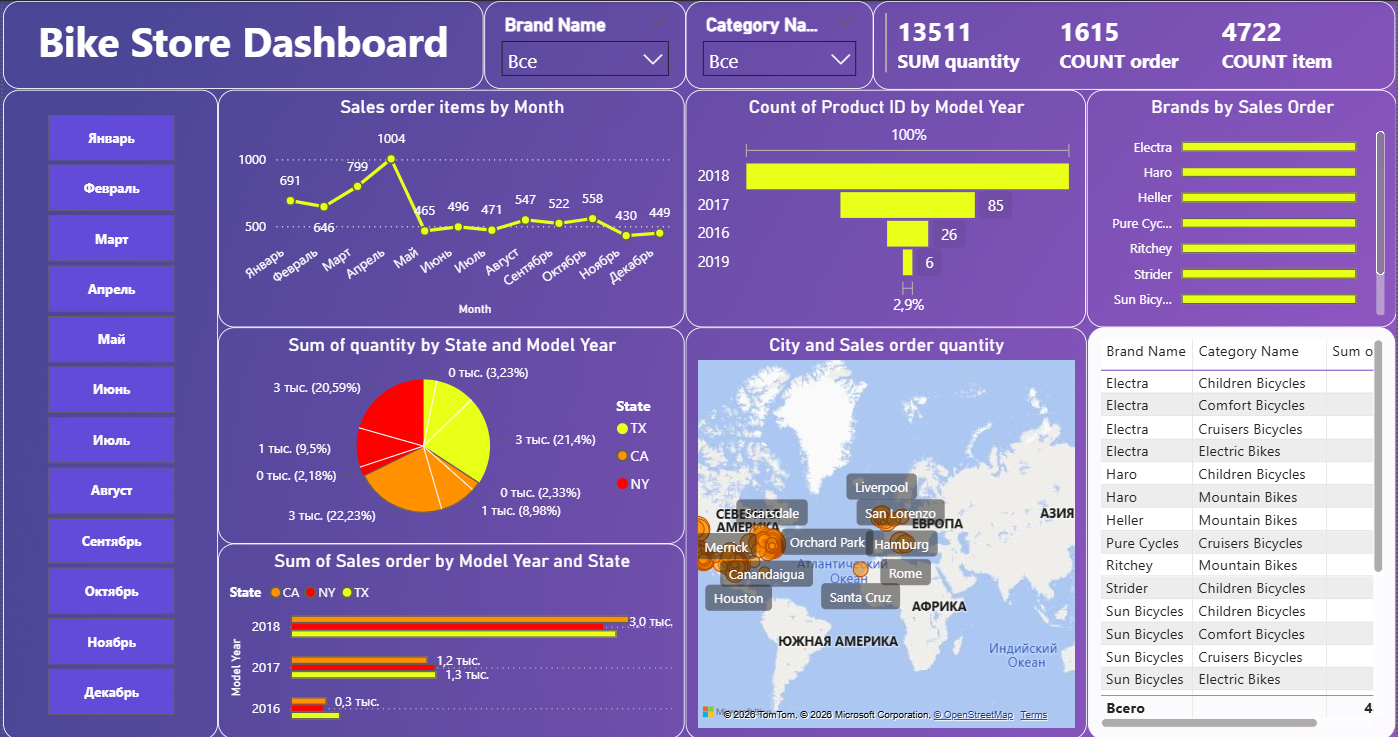

The page's visual inventory and layout, read from the dashboard file:
{"tool":"powerbi","page":{"name":"Страница 1","canvas":[1280,720],"ordinal":0},"visuals":[{"type":"textbox","box":[0,0,441.9,81],"z":0},{"type":"slicer","fields":{"Values":["brands.brand_name"]},"box":[441.9,0,185.2,81],"z":1000},{"type":"slicer","fields":{"Values":["categories.category_name"]},"box":[627.1,0,172.9,81],"z":2000},{"type":"multiRowCard","fields":{"Values":["Sum(stocks.quantity)","orders.order_id","CountNonNull(order_items.item_id)"]},"box":[800,0,480.2,81.4],"z":3000},{"type":"slicer","fields":{"Values":["orders.Month Name"]},"box":[0,81.4,197.7,597.7],"z":4000},{"type":"lineChart","title":"Sales order items by Month","fields":{"Category":["orders.order_date.Изменение.Иерархия дат.Месяц"],"Y":["Sum(order_items.quantity)"]},"box":[197.7,81.4,429.1,218.6],"z":5000},{"type":"funnel","title":"Count of Product ID by Model Year","fields":{"Category":["products.model_year"],"Y":["CountNonNull(products.product_id)"]},"box":[626.7,81.4,368.1,218.6],"z":6000},{"type":"clusteredBarChart","title":"Brands by Sales Order","fields":{"Category":["brands.brand_name"],"Y":["Count(orders.order_status)"]},"box":[995.4,81.4,284.9,218.6],"z":7000},{"type":"pieChart","title":"Sum of quantity by State and Model Year","fields":{"Category":["stores.state"],"Series":["products.model_year"],"Y":["Sum(stocks.quantity)"]},"box":[197.7,300,429.1,198.8],"z":8000},{"type":"clusteredBarChart","title":"Sum of Sales order by Model Year and State","fields":{"Category":["products.model_year"],"Y":["Sum(stocks.quantity)"],"Series":["stores.state"]},"box":[197.7,498.8,429.1,180.2],"z":9000},{"type":"map","title":"City and Sales order quantity","fields":{"Category":["customers.city"],"Size":["Sum(order_items.quantity)"]},"box":[626.7,300,368.6,379.1],"z":10000},{"type":"tableEx","fields":{"Values":["brands.brand_name","categories.category_name","Sum(products.list_price)"]},"box":[997.1,299.8,282.6,379.1],"z":11000}]}

Visuals, with their boxes on the page's 1280x720 design canvas (x1, y1, x2, y2). These are canvas units, not pixel positions in the 1398x737 screenshot, which may show the page scaled, cropped or inside an application window:
textbox: (0, 0, 442, 81)
slicer - brands.brand_name: (442, 0, 627, 81)
slicer - categories.category_name: (627, 0, 800, 81)
multiRowCard - Sum(stocks.quantity) x orders.order_id: (800, 0, 1280, 81)
slicer - orders.Month Name: (0, 81, 198, 679)
"Sales order items by Month" lineChart: (198, 81, 627, 300)
"Count of Product ID by Model Year" funnel: (627, 81, 995, 300)
"Brands by Sales Order" clusteredBarChart: (995, 81, 1280, 300)
"Sum of quantity by State and Model Year" pieChart: (198, 300, 627, 499)
"Sum of Sales order by Model Year and State" clusteredBarChart: (198, 499, 627, 679)
"City and Sales order quantity" map: (627, 300, 995, 679)
tableEx - brands.brand_name x categories.category_name: (997, 300, 1280, 679)
